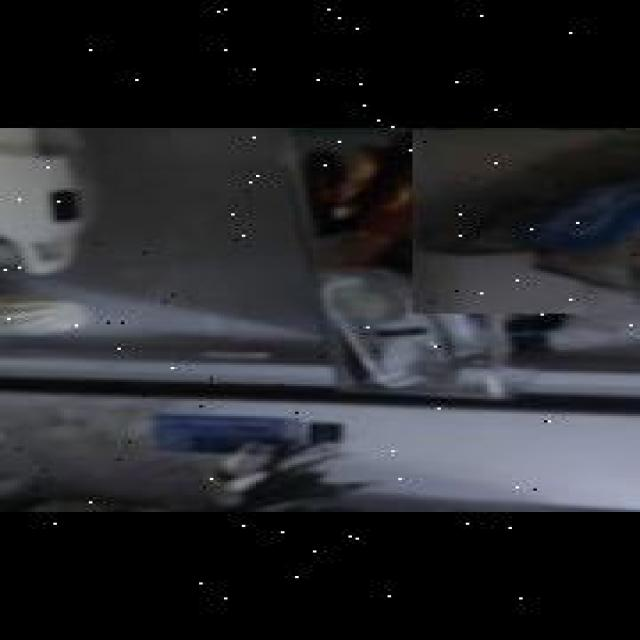grated_cheese: (409, 130, 640, 314), (309, 267, 640, 388)
